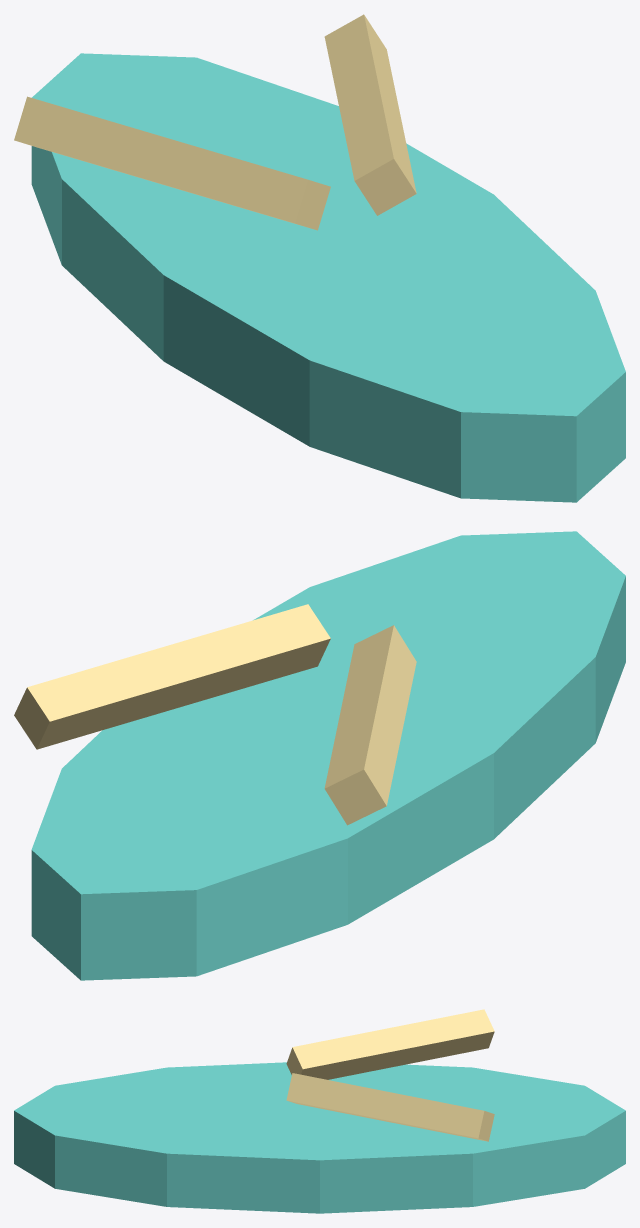
Rendered from DebrisFlipFlop.fbx.
3 views of the same model, one above another, from view 1: azimuth 30°, elevation 25°; view 2: azimuth 150°, elevation 25°; view 3: azimuth 270°, elevation 25° (orthographic). The views are drawn at different scales.
Visible parts, largest first — view 1: DebrisFlipFlop; view 2: DebrisFlipFlop; view 3: DebrisFlipFlop.
Part boxes in pixels (box(x1,y1,x2,y2)): DebrisFlipFlop: box(14, 14, 625, 502); DebrisFlipFlop: box(14, 531, 625, 980); DebrisFlipFlop: box(14, 1009, 625, 1213).
Size of the model in its own units: 0.1129 by 0.0487 by 0.26.
